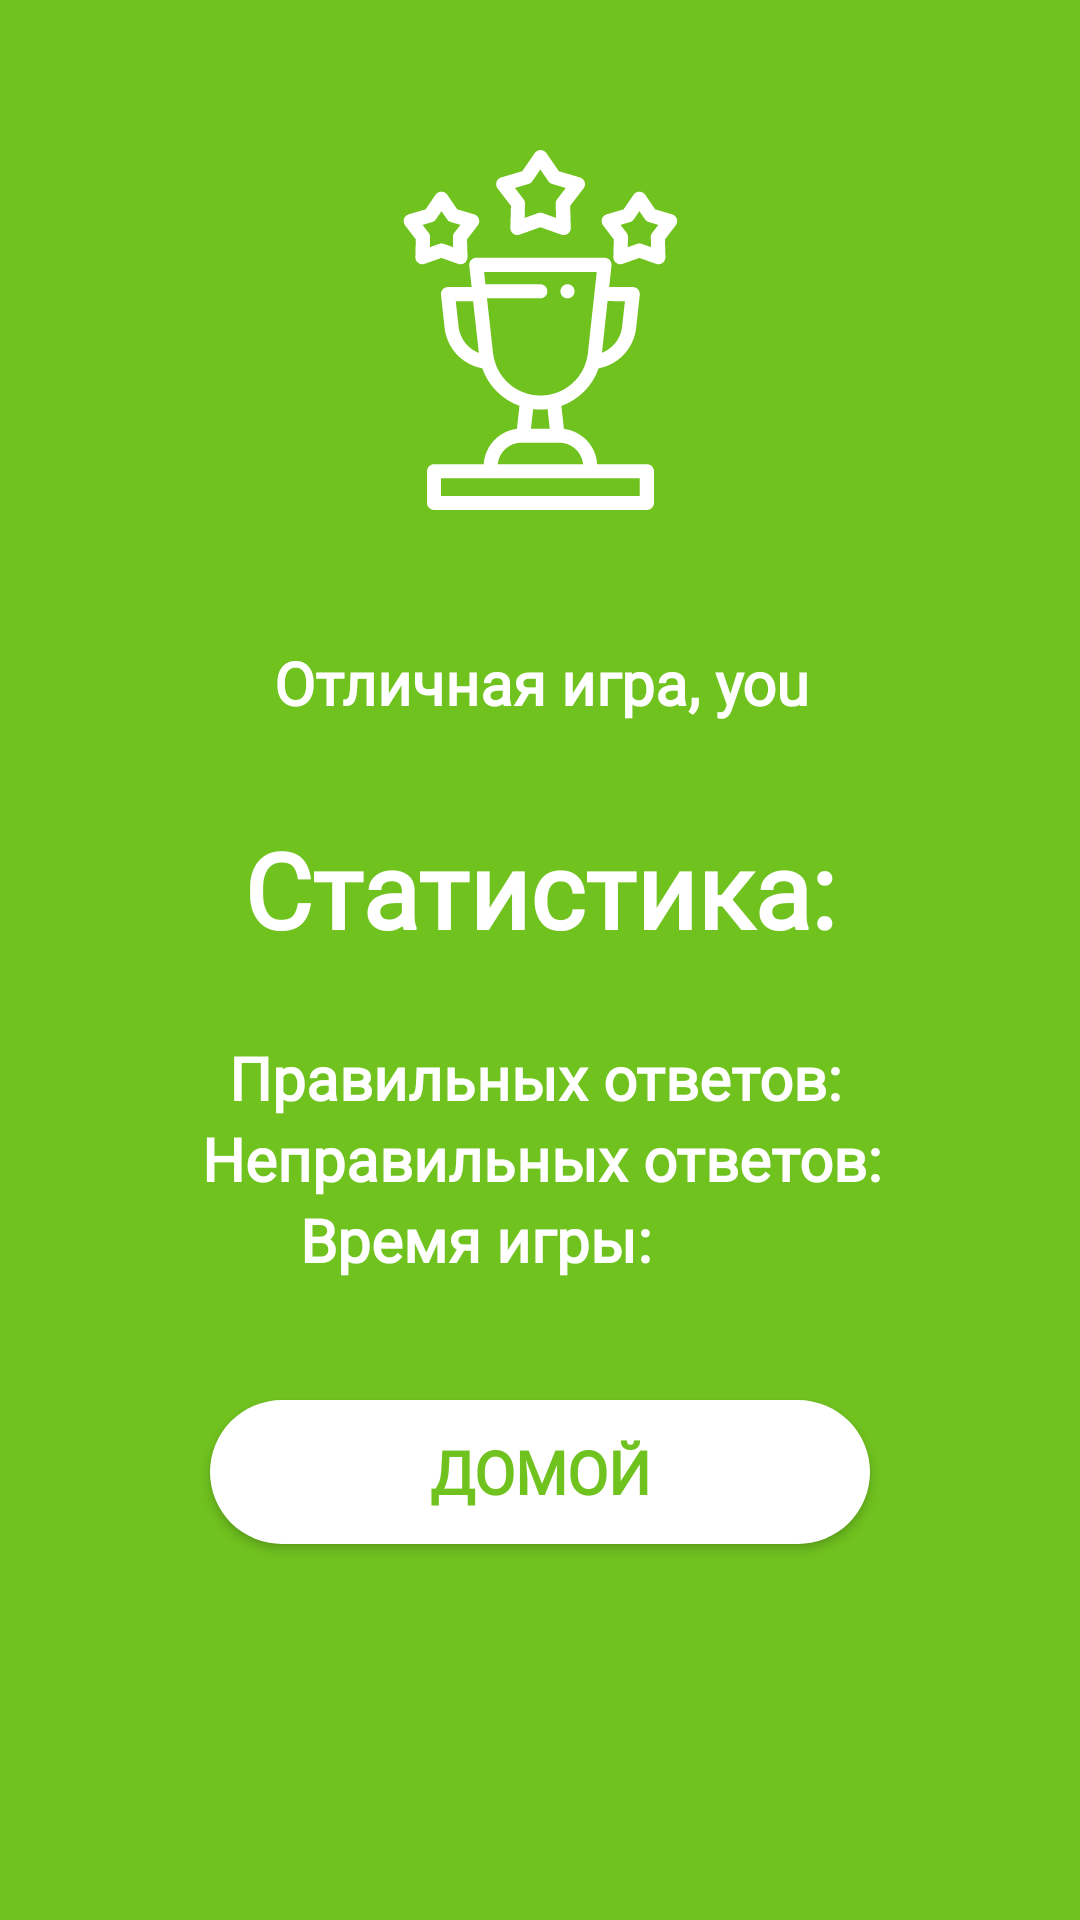

Named icons in this screenshot (1080×1920) and their centers, point (x, y):
trophy: point (540, 330)
